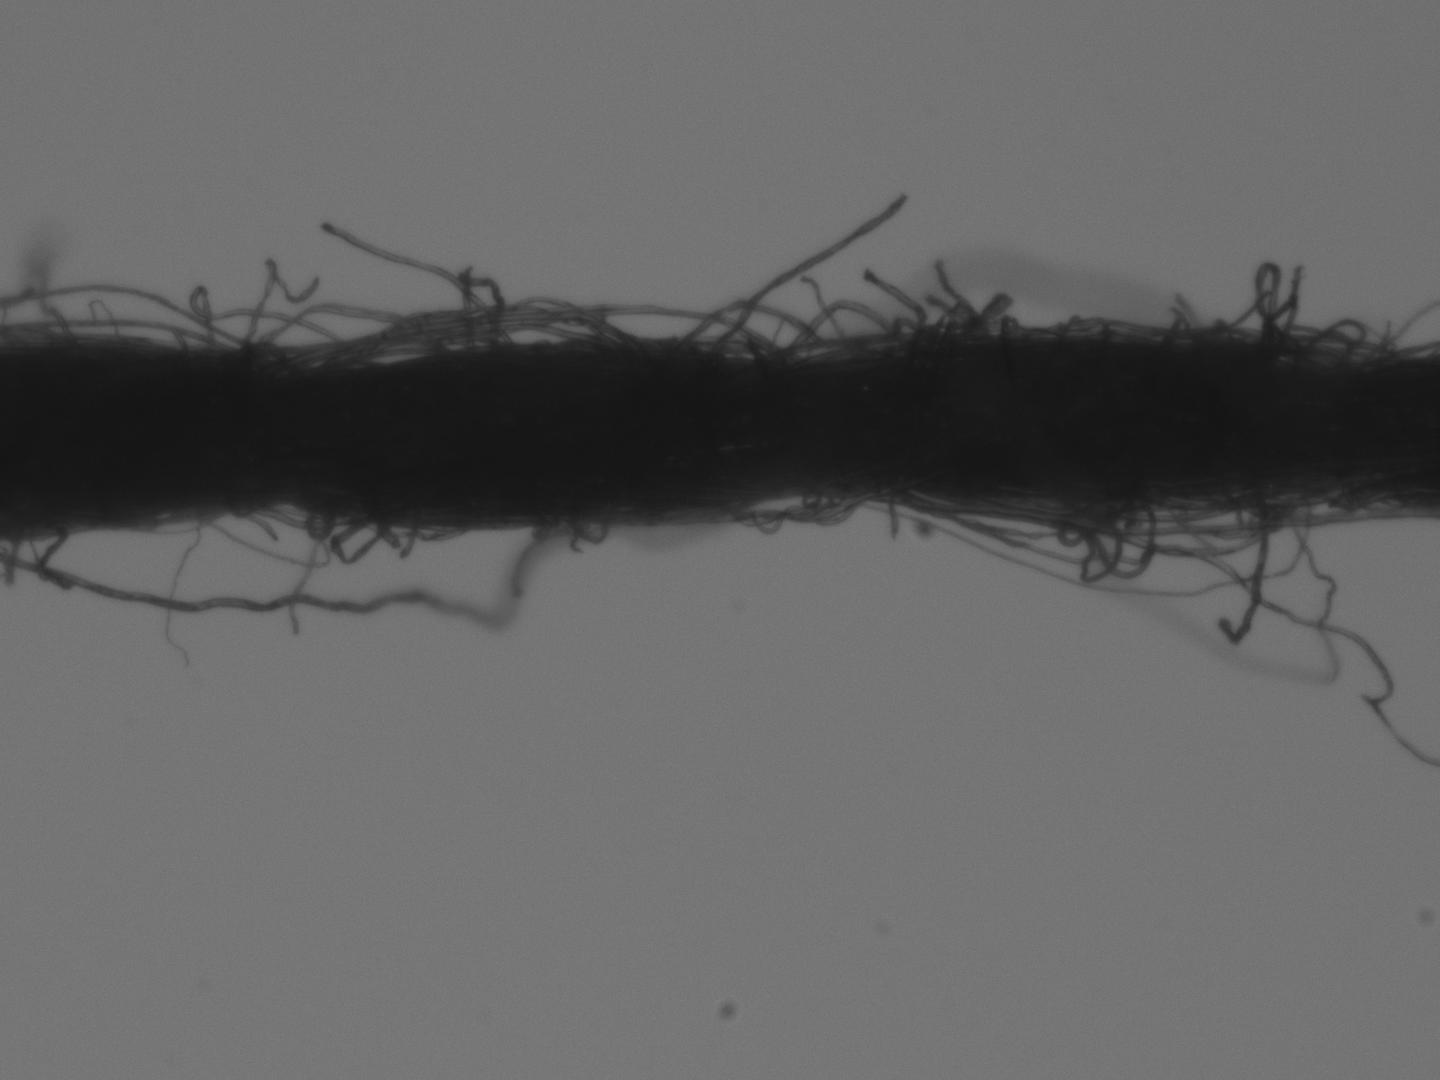loop_fiber: (329, 305, 763, 369), (965, 487, 1293, 556), (349, 294, 625, 366), (195, 288, 355, 366), (248, 304, 446, 366), (681, 295, 828, 366), (1061, 496, 1159, 580), (6, 314, 214, 349), (893, 495, 1069, 535), (785, 299, 904, 355), (719, 488, 853, 530), (1077, 500, 1142, 587), (858, 269, 927, 338), (1296, 315, 1372, 369), (330, 517, 392, 563), (227, 341, 297, 370), (565, 515, 610, 545), (304, 501, 324, 541)
protruding_fiber: (706, 187, 914, 362), (319, 226, 514, 346), (1217, 486, 1271, 644), (243, 261, 320, 348)
